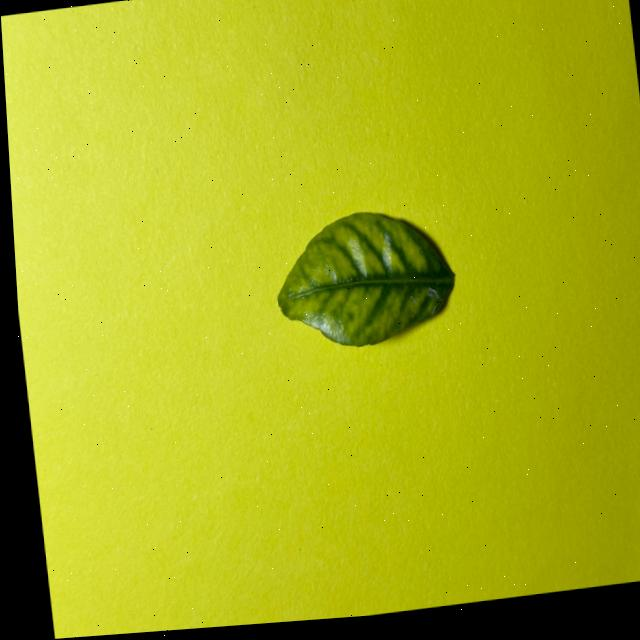greening: (277, 213, 453, 347)
